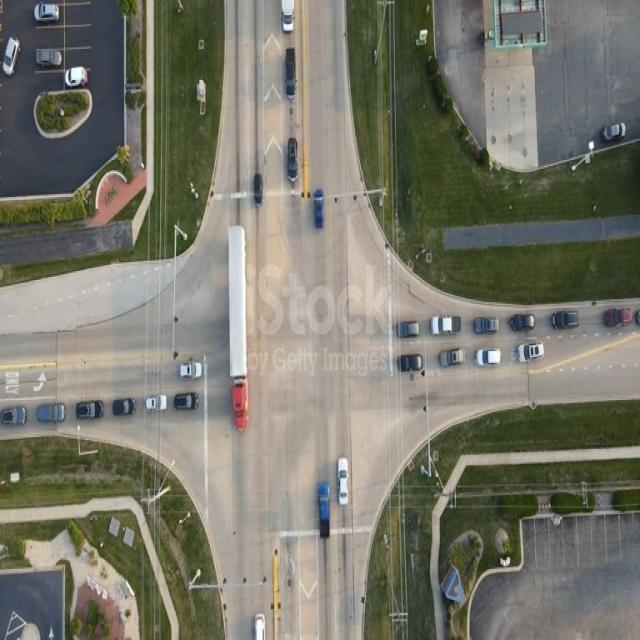car: (1, 38, 20, 78), (284, 50, 296, 100), (34, 1, 60, 22), (38, 404, 65, 424), (518, 344, 544, 364), (552, 312, 578, 332), (0, 408, 26, 428), (340, 461, 351, 508), (398, 354, 423, 374), (280, 0, 295, 33), (287, 140, 298, 183), (173, 392, 196, 412), (114, 400, 138, 419), (602, 123, 624, 143), (511, 314, 535, 332), (476, 318, 500, 335), (314, 191, 324, 231), (442, 350, 464, 368), (179, 361, 201, 379), (478, 349, 501, 366), (397, 321, 420, 338), (145, 397, 167, 414), (253, 615, 265, 640), (254, 174, 263, 207)
pickup-truck: (318, 482, 331, 536), (37, 49, 64, 70)
semi-trailer: (232, 228, 255, 438), (224, 224, 249, 392)
